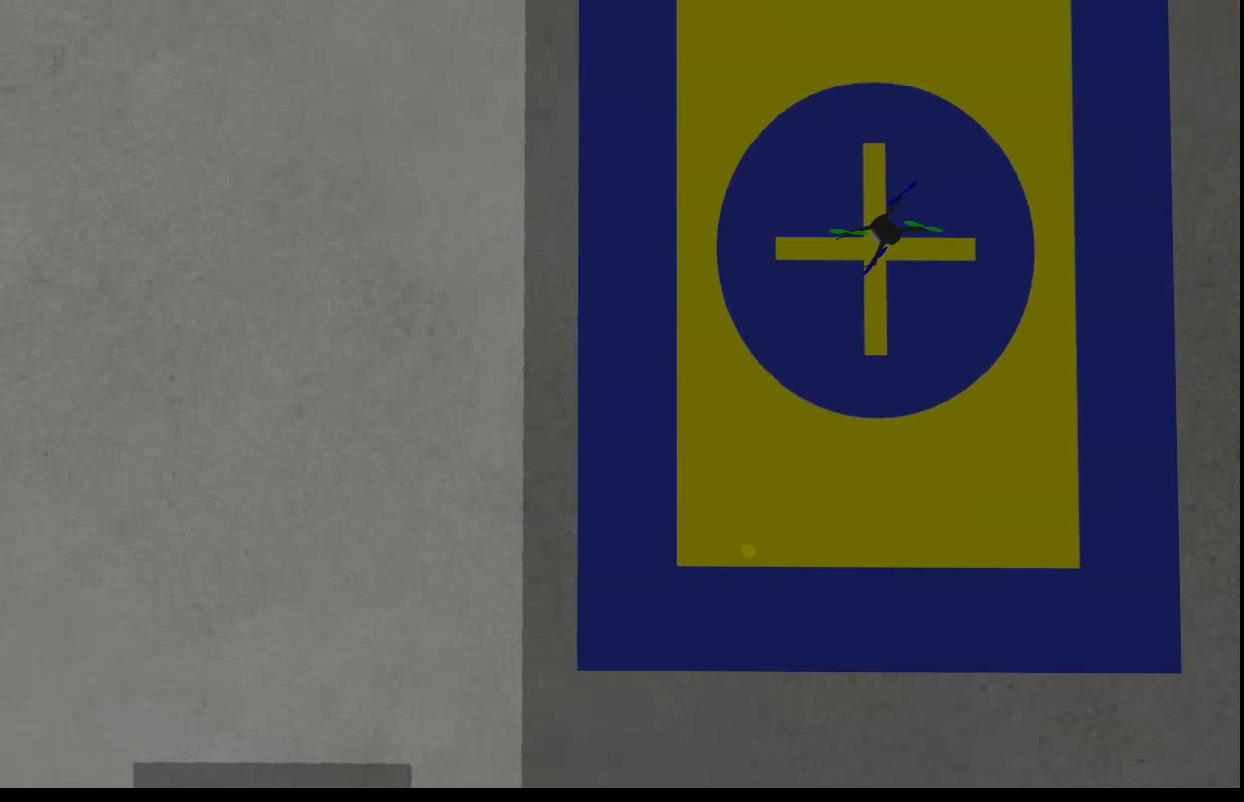large_base: (576, 1, 1185, 679)
